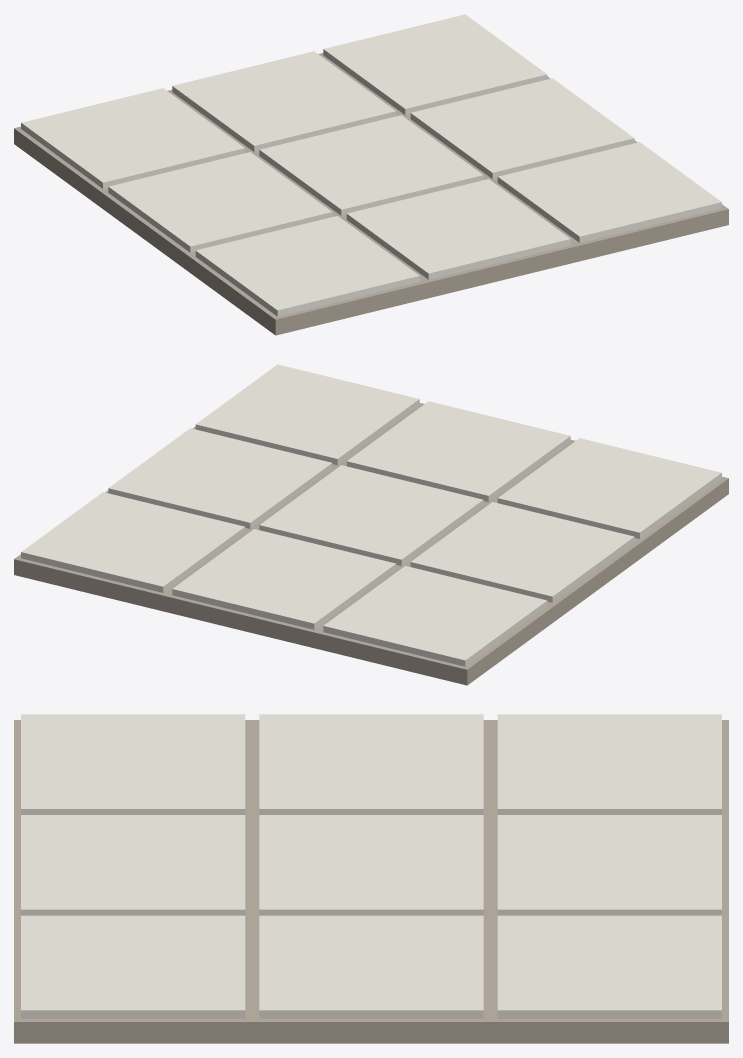
File: plaster-floor-slab-ee9cbf15.glb
The picture shows the model from 3 angles, top to bottom: view 1: azimuth 30°, elevation 25°; view 2: azimuth 150°, elevation 25°; view 3: azimuth 270°, elevation 25°; orthographic projection. The views are drawn at different scales.
Parts seen in each view (by area): view 1: plaster-floor-slab; view 2: plaster-floor-slab; view 3: plaster-floor-slab.
Part boxes in pixels (left/top/right/bottom): plaster-floor-slab: left=14, top=14, right=728, bottom=335; plaster-floor-slab: left=14, top=364, right=728, bottom=685; plaster-floor-slab: left=14, top=714, right=728, bottom=1043.
Bounding box in the file's own units: 3 × 0.1399 × 3.
